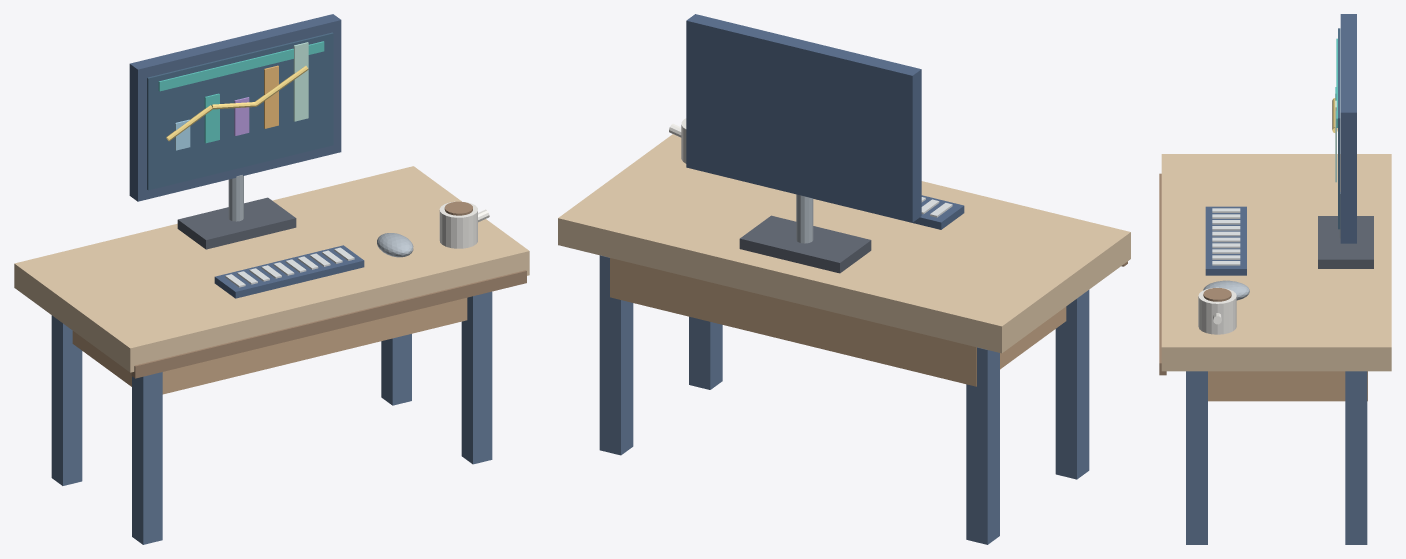
The model's file is desk_workstation.glb.
3 views of the same model, side by side, from view 1: azimuth 30°, elevation 25°; view 2: azimuth 150°, elevation 25°; view 3: azimuth 270°, elevation 25° (orthographic). The views are drawn at different scales.
Visible parts, largest first — view 1: desk_top, screen_glass, monitor_frame, desk_apron, desk_front_trim, leg_1_1, leg_0_1, leg_0_0, monitor_base, keyboard, leg_1_0, screen_header (+6 smaller); view 2: desk_top, monitor_frame, desk_apron, leg_0_0, leg_0_1, leg_1_0, monitor_base, leg_1_1, keyboard, monitor_stand; view 3: desk_top, desk_apron, leg_1_0, monitor_frame, leg_1_1, monitor_base, keyboard, mug, desk_front_trim, screen_glass, mouse, mug_coffee.
Boxes of the visible parts, bbox=[...] form: desk_top: bbox=[14, 166, 529, 372]; screen_glass: bbox=[147, 32, 333, 190]; monitor_frame: bbox=[129, 14, 341, 201]; desk_apron: bbox=[72, 298, 467, 394]; desk_front_trim: bbox=[131, 270, 526, 378]; leg_1_1: bbox=[461, 291, 492, 464]; leg_0_1: bbox=[132, 372, 162, 544]; leg_0_0: bbox=[51, 315, 82, 485]; monitor_base: bbox=[177, 197, 296, 249]; keyboard: bbox=[214, 245, 364, 298]; leg_1_0: bbox=[381, 334, 411, 405]; screen_header: bbox=[158, 41, 324, 91]; desk_top: bbox=[558, 134, 1130, 353]; monitor_frame: bbox=[686, 14, 921, 222]; desk_apron: bbox=[610, 258, 1066, 386]; leg_0_0: bbox=[966, 347, 999, 544]; leg_0_1: bbox=[1055, 290, 1089, 479]; leg_1_0: bbox=[599, 255, 633, 455]; monitor_base: bbox=[739, 215, 871, 273]; leg_1_1: bbox=[689, 316, 722, 389]; keyboard: bbox=[813, 195, 964, 229]; monitor_stand: bbox=[796, 194, 813, 243]; desk_top: bbox=[1161, 154, 1391, 371]; desk_apron: bbox=[1208, 371, 1367, 401]; leg_1_0: bbox=[1345, 371, 1367, 544]; monitor_frame: bbox=[1340, 14, 1356, 243]; leg_1_1: bbox=[1186, 371, 1207, 544]; monitor_base: bbox=[1318, 216, 1373, 268]; keyboard: bbox=[1205, 206, 1246, 275]; mug: bbox=[1198, 287, 1236, 334]; desk_front_trim: bbox=[1159, 173, 1166, 375]; screen_glass: bbox=[1338, 28, 1340, 229]; mouse: bbox=[1203, 280, 1249, 300]; mug_coffee: bbox=[1203, 288, 1231, 301].
Bounding box in the file's own units: 1.55 × 1.48 × 0.7875.
